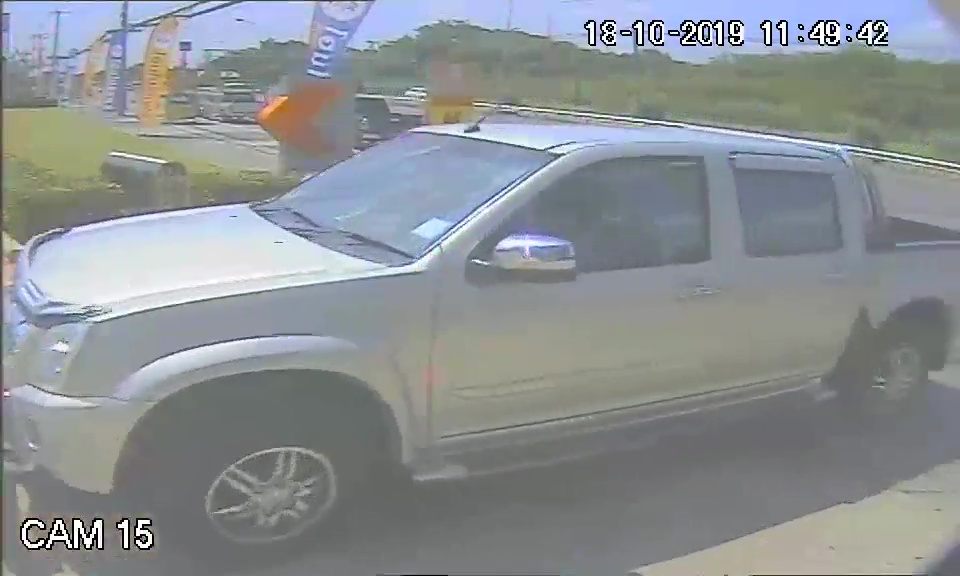pickup: (13, 116, 881, 502)
